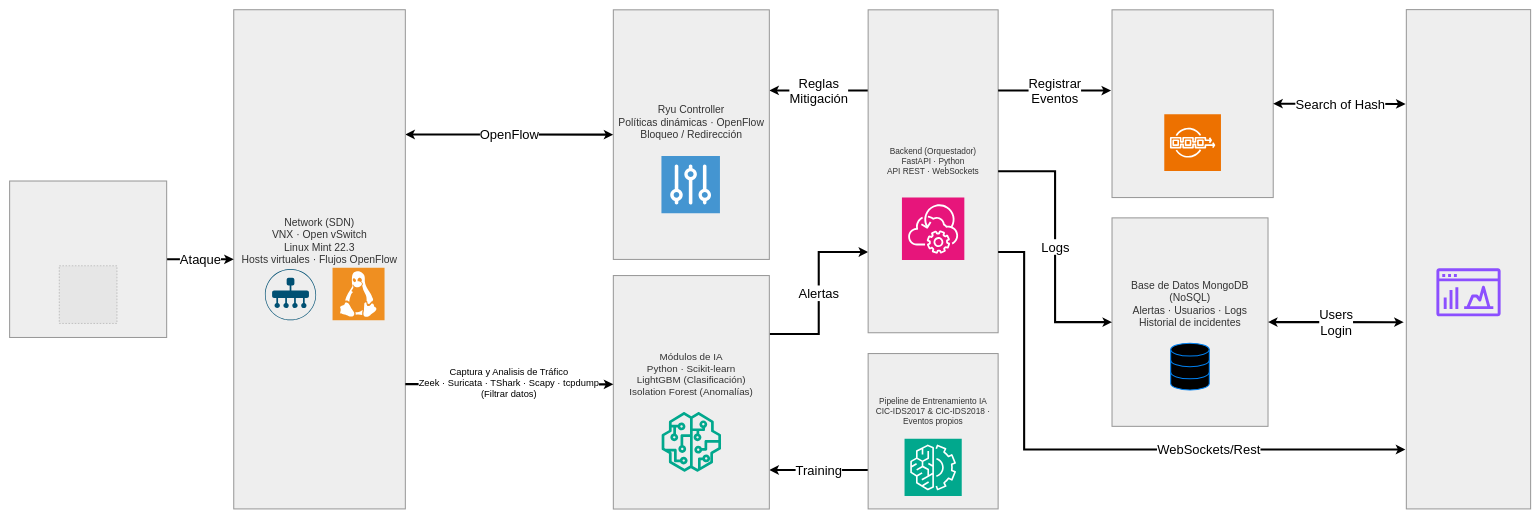
Image size: 1540x518. Some labels were removed from this diagram. Grey dashed boxes stand in for pictures. The shapes that lost their labels are listed below. From the top down, each one's box as (x1, y1, x2, y2) in pixels, then its label:
(1111, 9, 1273, 198): Blockchain Solana / Ethereum Local Registro inmutable & Hash de evidencias
(9, 180, 167, 338): Red de ataque Kali Linux (SO) · Metasploit hping3 · Nmap · Scapy
(1406, 9, 1531, 509): Frontend (Dashboard) React.js Alertas en tiempo real Gráficas · Gestión
